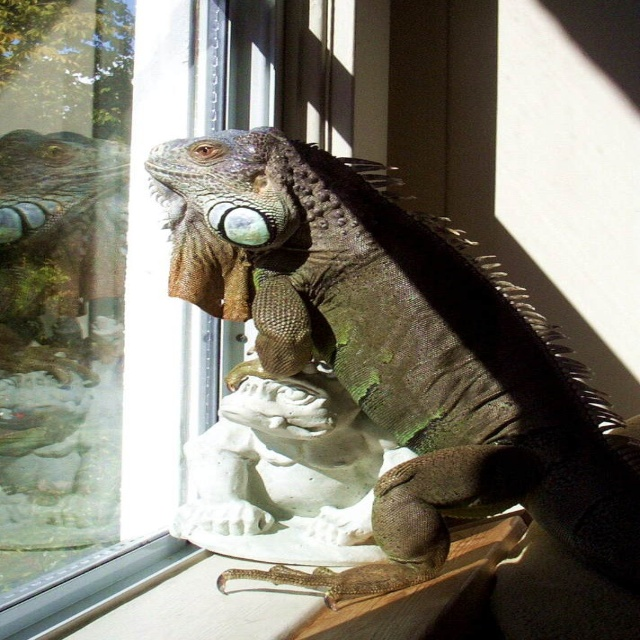Lizard: (145, 78, 587, 616)
